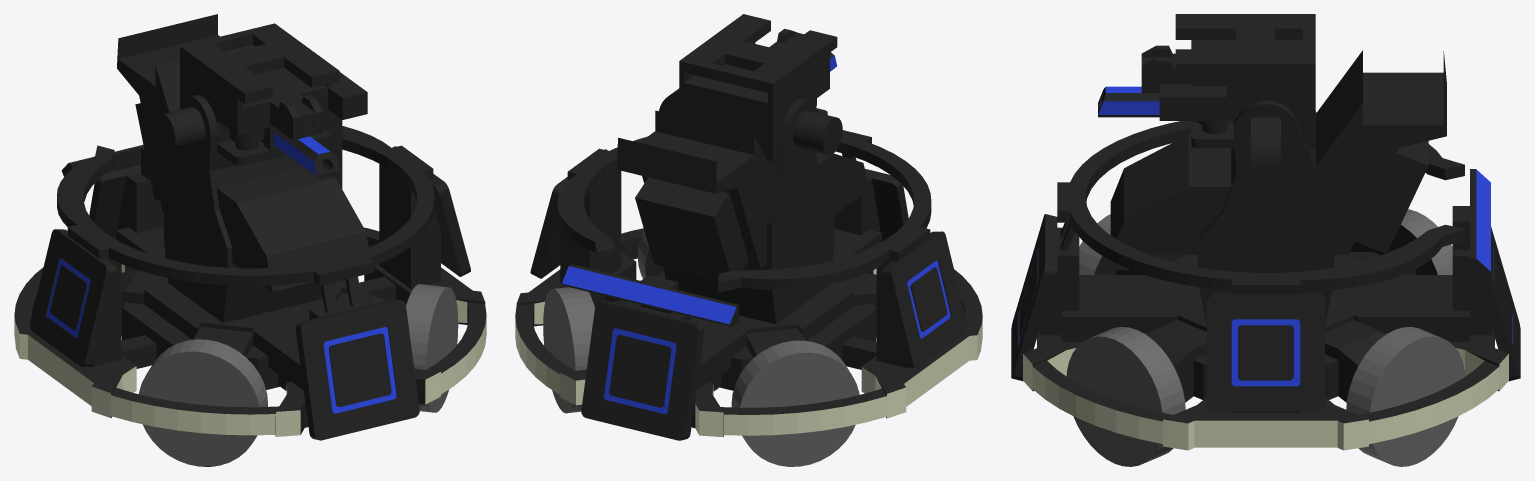
Rendered from Omni-infantry-blue.fbx.
3 renders of one model, left to right at view 1: azimuth 30°, elevation 25°; view 2: azimuth 150°, elevation 25°; view 3: azimuth 270°, elevation 25°, orthographic. The views are drawn at different scales.
Visible parts, largest first — view 1: player; view 2: player; view 3: player.
Boxes of the visible parts, x1,y1,x2,y2 form: player: (14,14,486,466); player: (515,14,982,466); player: (1011,14,1520,466).
Size of the model in its own units: 3905 by 3201 by 4093.
